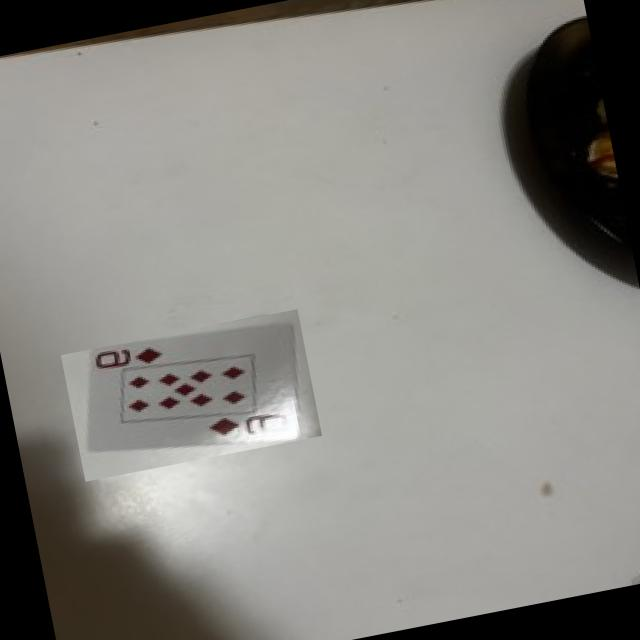9 of diamonds: (80, 323, 301, 451)
